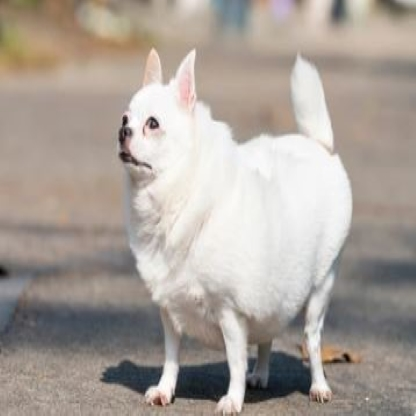chihuahua: (115, 43, 351, 416)
